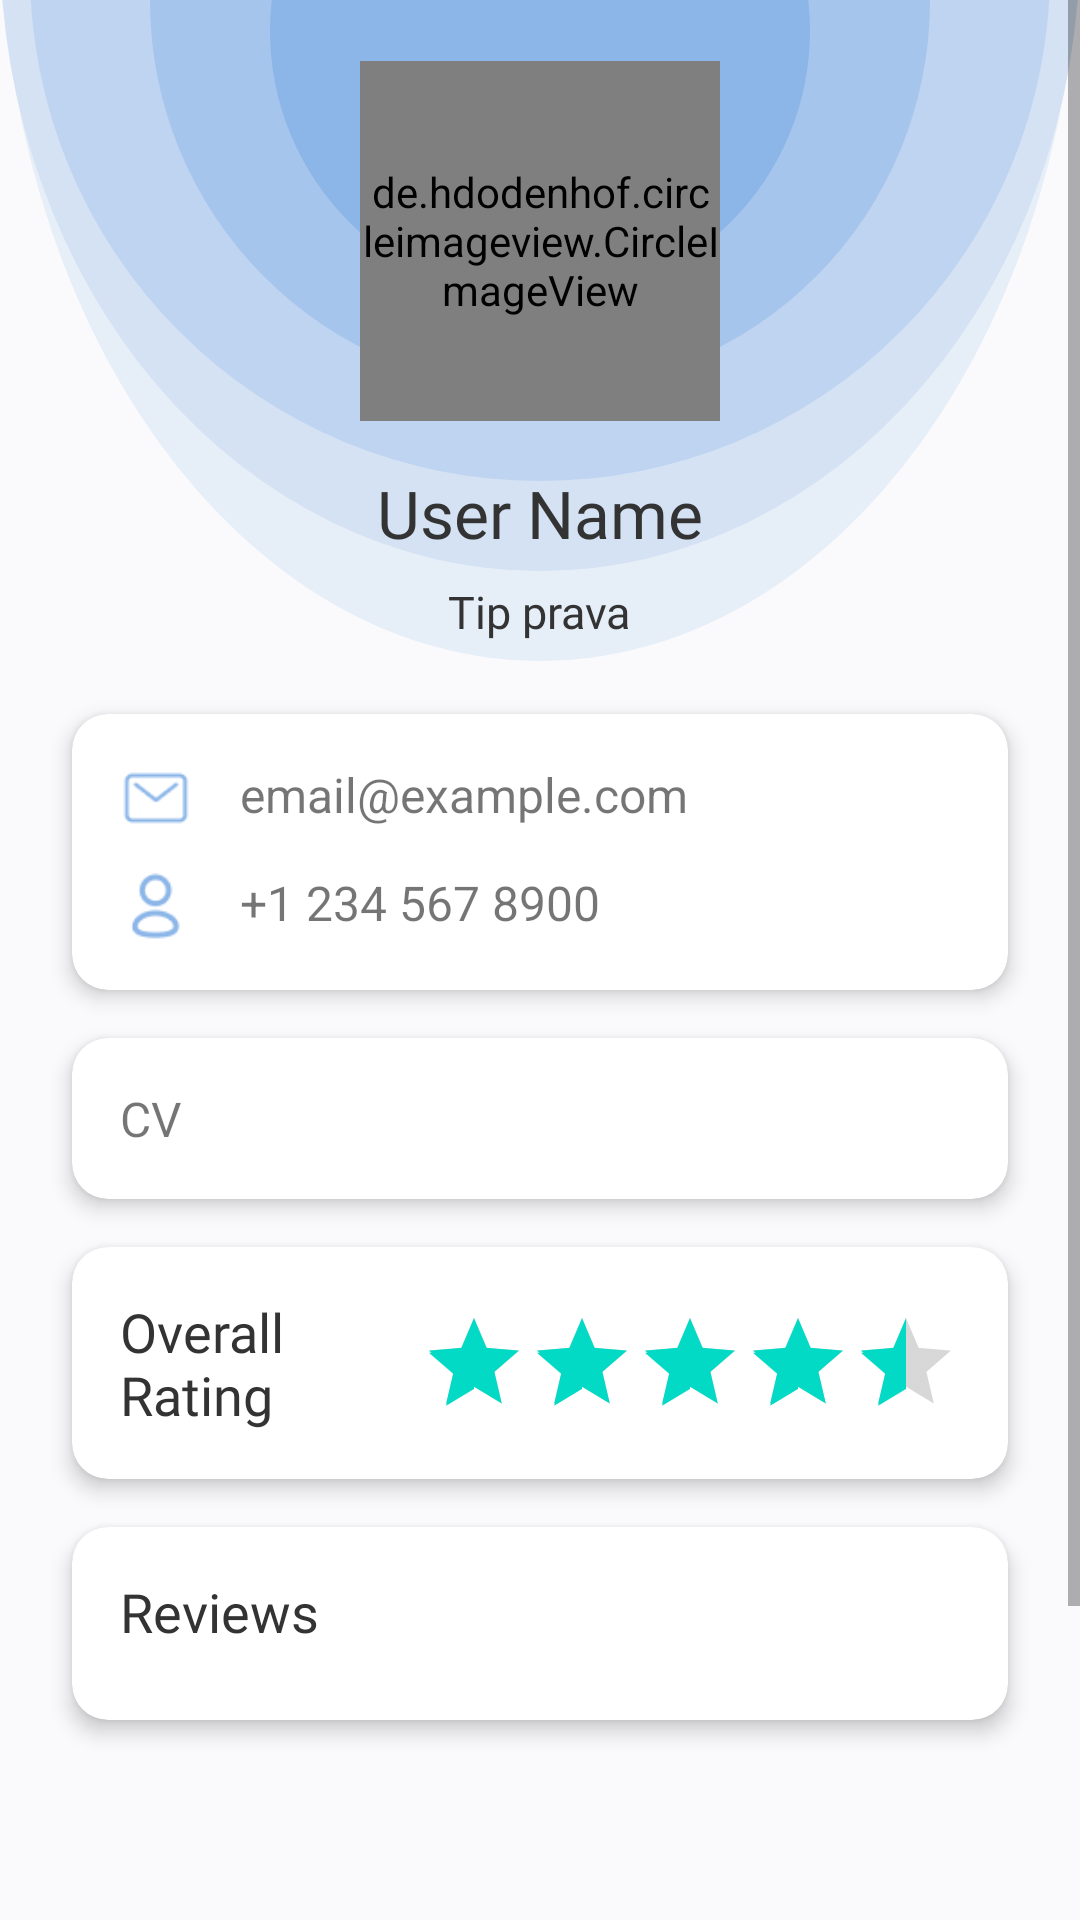

Icon bounding boxes for this 1080 × 1920 phone screenshot, format (x1, y1, x2, y2):
profile: (132, 873, 180, 939)
